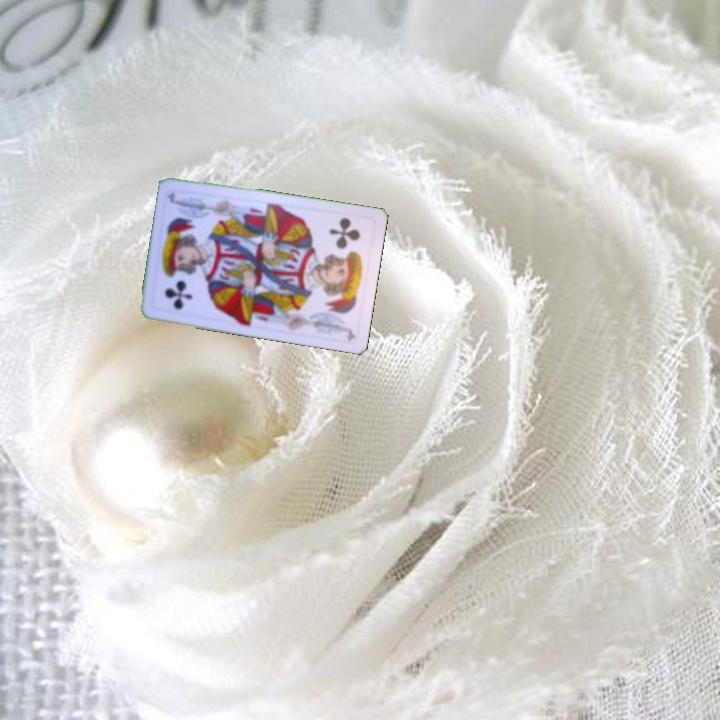c_j.png: (149, 245, 216, 319), (310, 209, 377, 283)
